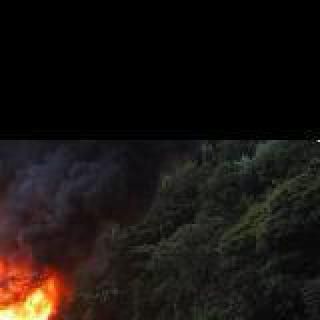fire: (0, 140, 90, 278), (0, 264, 64, 320)
